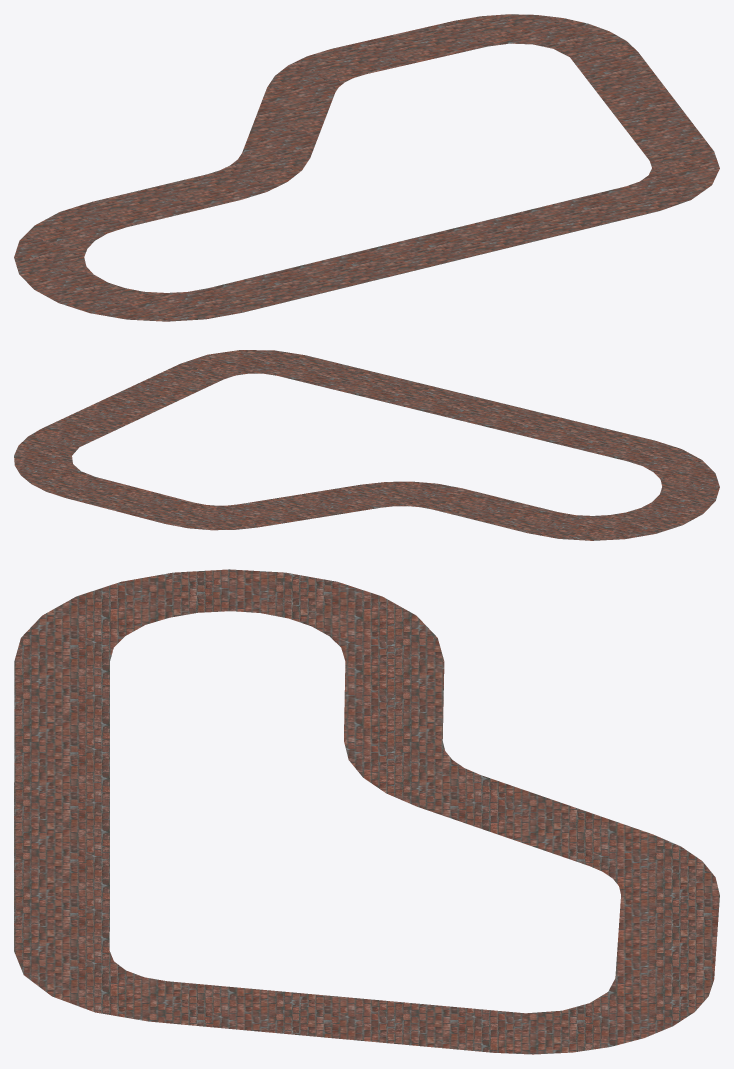
The model's file is road_brick.dae.
The picture shows the model from 3 angles, top to bottom: view 1: azimuth 30°, elevation 25°; view 2: azimuth 150°, elevation 25°; view 3: azimuth 270°, elevation 25°; orthographic projection. The views are drawn at different scales.
Parts seen in each view (by area): view 1: road; view 2: road; view 3: road.
Part boxes in pixels (<box>): road: <box>14,14,719,321</box>; road: <box>14,350,719,540</box>; road: <box>14,569,719,1054</box>.
Size of the model in its own units: 7.21 by 4.43 by 0.000494.
Materials: 1 (1 with a texture image).
